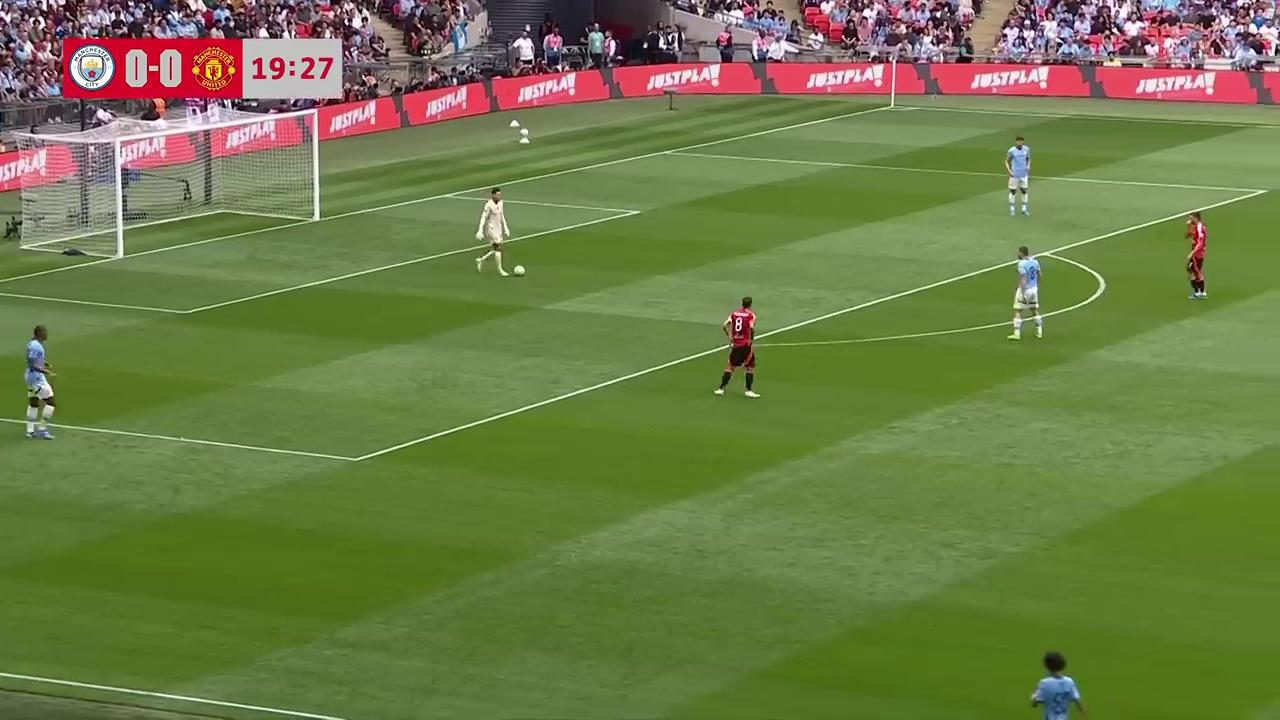ball: (512, 260, 527, 276)
player: (714, 296, 758, 398), (1027, 648, 1089, 720), (23, 321, 55, 440), (1008, 246, 1043, 340), (475, 188, 510, 276), (1004, 135, 1031, 217), (1183, 211, 1207, 300)
